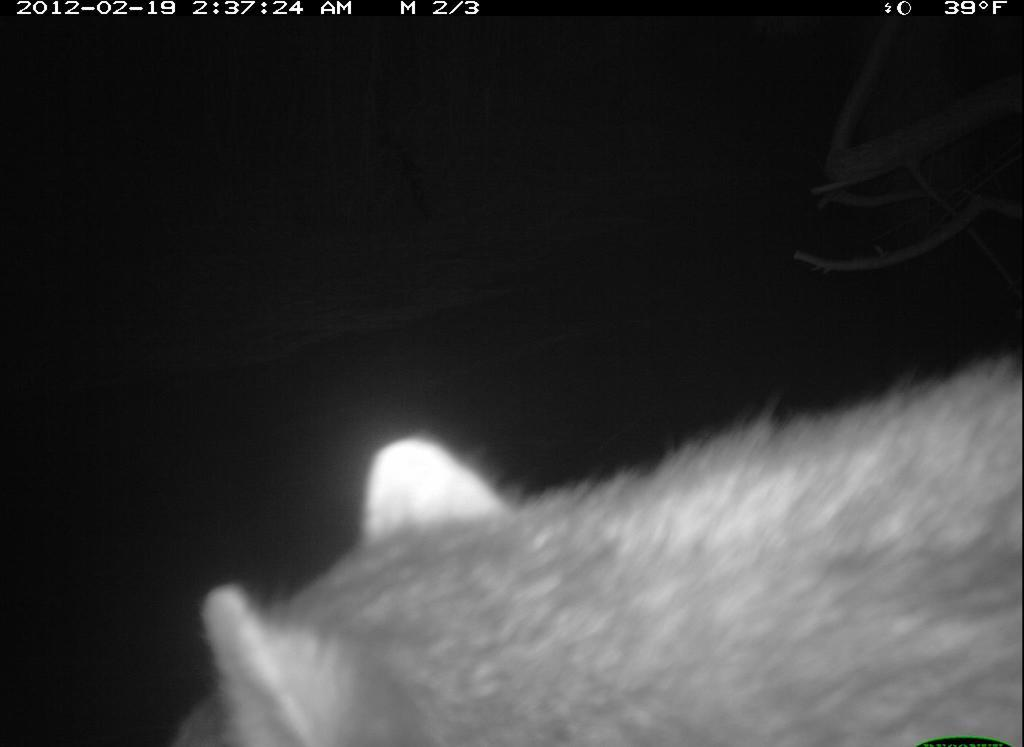raccoon: (163, 359, 1023, 747)
